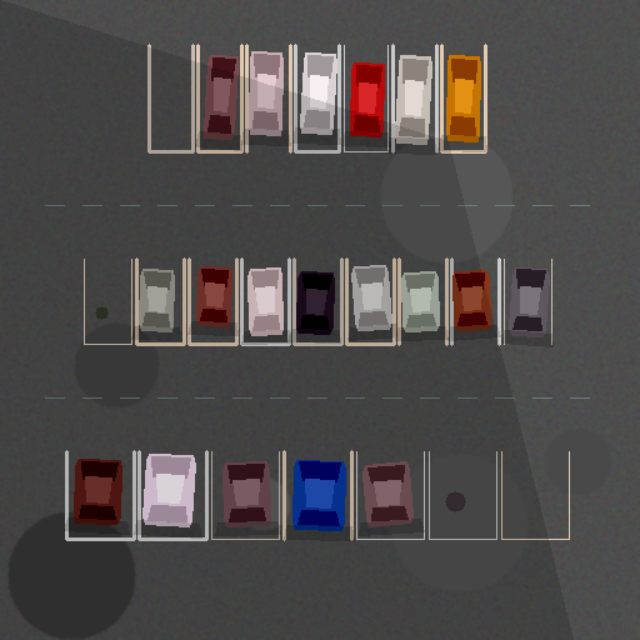space-empty: (501, 451, 569, 539), (429, 451, 496, 539), (149, 45, 193, 151), (84, 259, 131, 344)
space-occupied: (66, 451, 134, 539), (211, 451, 279, 539), (356, 451, 424, 539), (139, 451, 206, 539), (284, 451, 351, 539), (197, 45, 241, 151), (246, 45, 290, 151), (295, 45, 339, 151), (441, 45, 485, 151), (344, 45, 387, 151), (393, 45, 436, 151), (136, 259, 184, 344), (241, 259, 289, 344), (346, 259, 394, 344), (451, 259, 499, 344), (189, 259, 236, 344), (294, 259, 341, 344), (399, 259, 446, 344), (504, 259, 551, 344)
